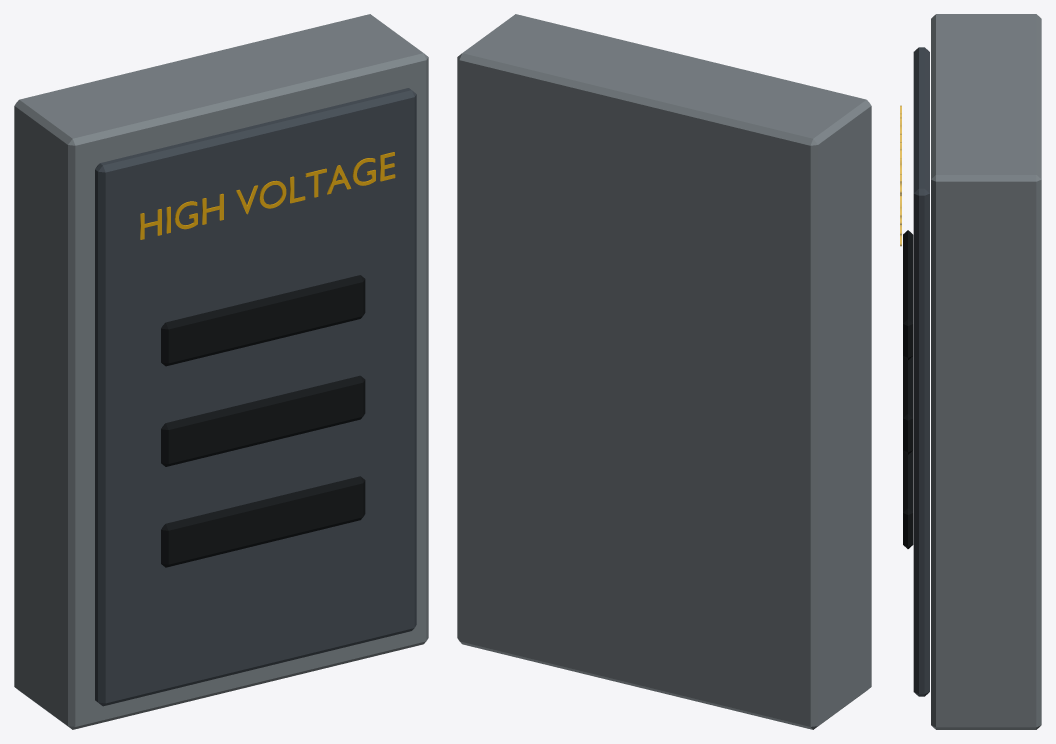
File: WallElectricalBoard.fbx
3 views of the same model, side by side, from view 1: azimuth 30°, elevation 25°; view 2: azimuth 150°, elevation 25°; view 3: azimuth 270°, elevation 25° (orthographic). The views are drawn at different scales.
Parts seen in each view (by area): view 1: WallElectricalBoard; view 2: WallElectricalBoard; view 3: WallElectricalBoard.
Part boxes in pixels (x1,y1,x2,y2): WallElectricalBoard: (14, 14, 428, 729); WallElectricalBoard: (457, 14, 871, 729); WallElectricalBoard: (900, 14, 1041, 729).
Bounding box in the file's own units: 60 × 94 × 21.7.
1 material, 1 textured.
